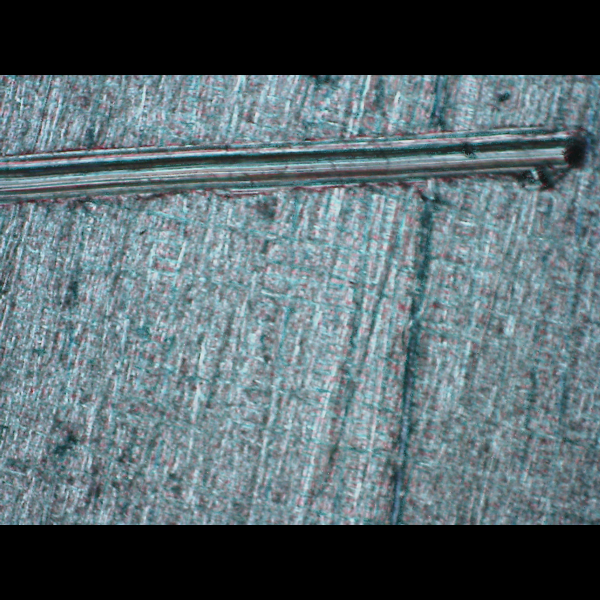d: (0, 115, 594, 222)
